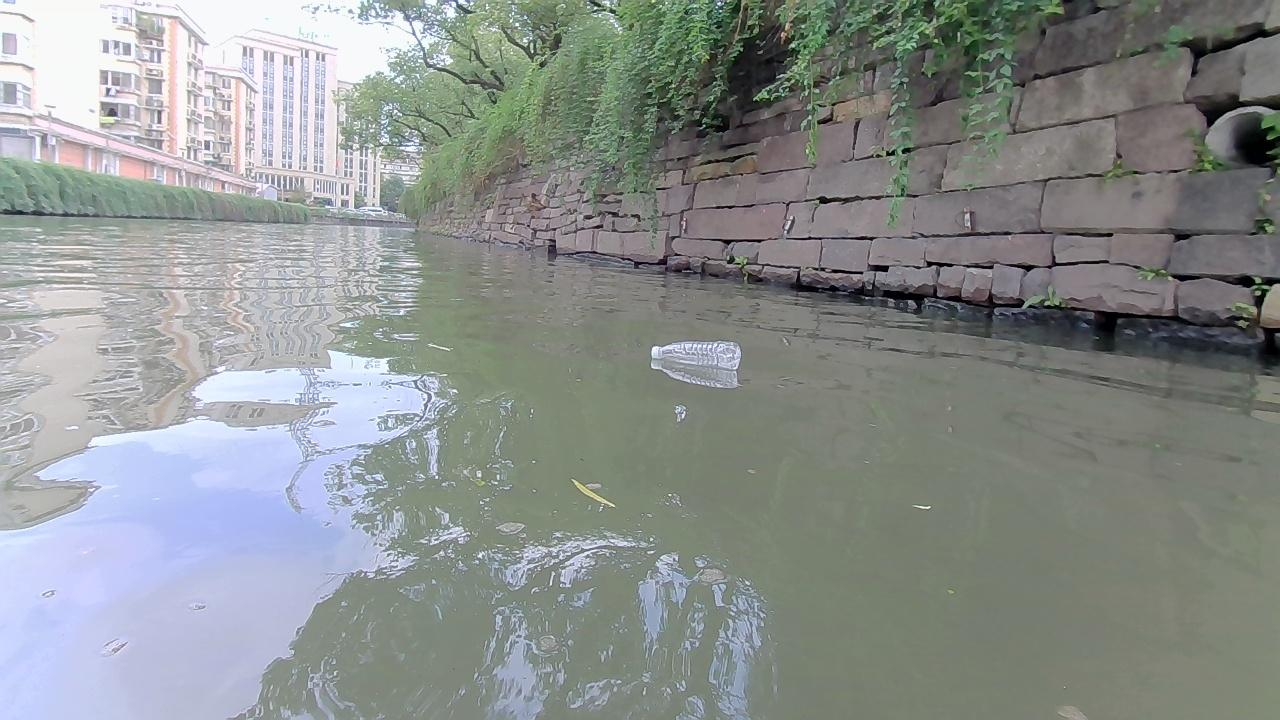bottle: (650, 340, 740, 367)
